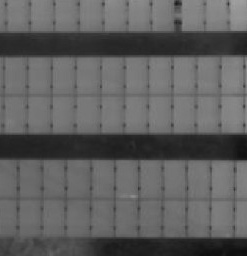solar: (1, 55, 30, 96), (25, 55, 54, 96), (49, 55, 78, 96), (74, 55, 103, 96), (98, 55, 127, 96), (122, 55, 151, 96), (146, 55, 175, 96), (170, 55, 199, 96), (194, 55, 223, 96), (217, 55, 246, 96), (218, 94, 247, 135), (194, 93, 223, 134), (169, 93, 198, 134), (145, 93, 174, 134), (122, 93, 151, 134), (98, 93, 127, 134), (73, 93, 102, 134), (48, 93, 77, 134), (24, 93, 53, 134), (16, 158, 45, 199), (40, 158, 69, 199), (66, 158, 95, 199), (90, 158, 119, 199), (112, 158, 141, 199), (137, 158, 166, 199), (161, 158, 190, 199), (185, 158, 214, 199), (210, 158, 239, 199), (208, 197, 237, 238), (183, 197, 212, 238), (159, 197, 188, 238), (136, 197, 165, 238), (112, 197, 141, 238), (89, 198, 118, 239), (64, 198, 93, 239), (39, 198, 68, 239), (15, 199, 44, 240), (1, 93, 29, 134)
